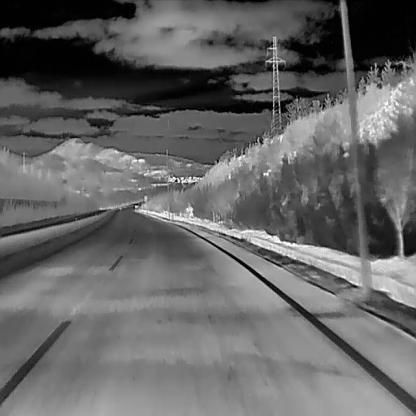car: (135, 204, 139, 207)
